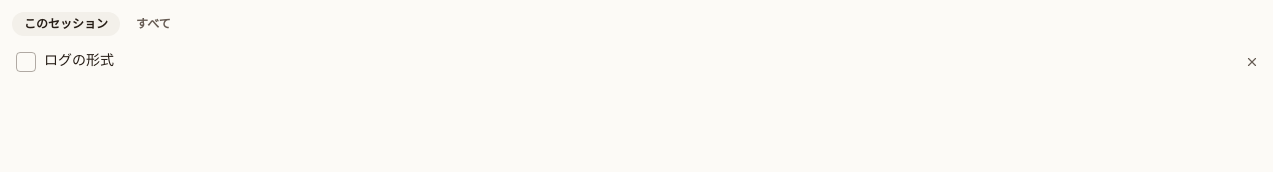
it: TodoPane › canOpenWorktree が false の見出しはボタンにしない
What coordinates should you click on to do the following:
click the button "すべて"
I would click on:
 (153, 24)
Its box is left=124, top=12, right=183, bottom=36.
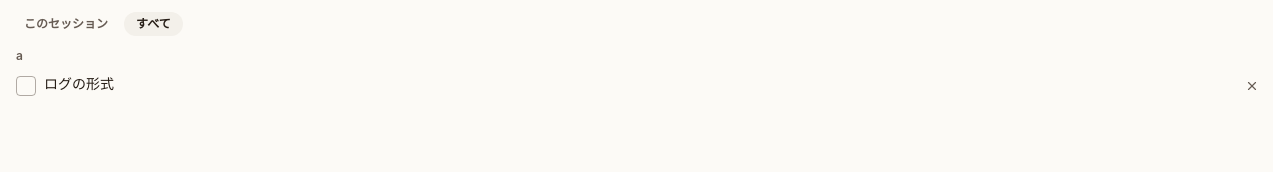
Expected: the heading "a" is shown, left=16, top=48, right=23, bottom=63
